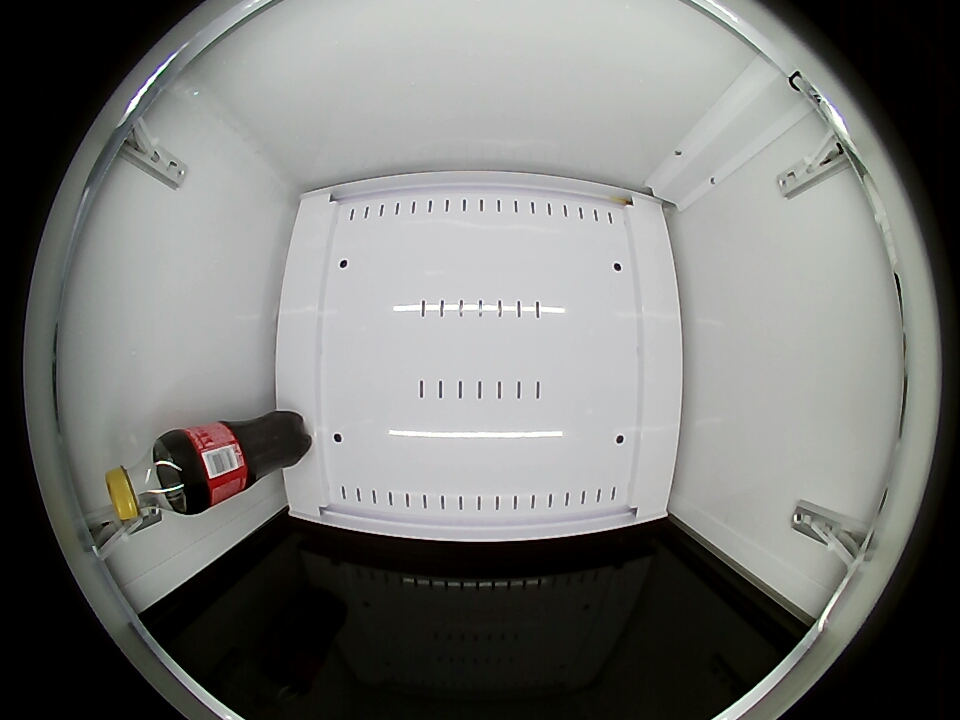kele-b-2: (106, 437, 191, 522)
